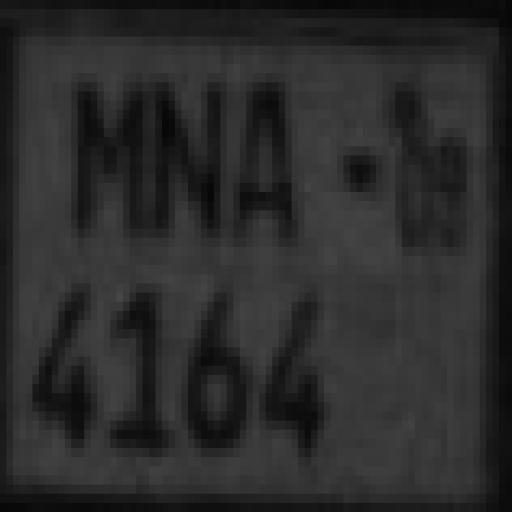1: (97, 276, 167, 446)
4: (251, 289, 332, 463), (31, 278, 91, 448)
6: (176, 278, 246, 442)
A: (222, 66, 296, 248)
M: (70, 74, 148, 235)
N: (150, 77, 224, 243)
